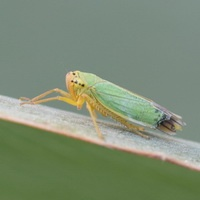insect: (20, 71, 184, 138)
